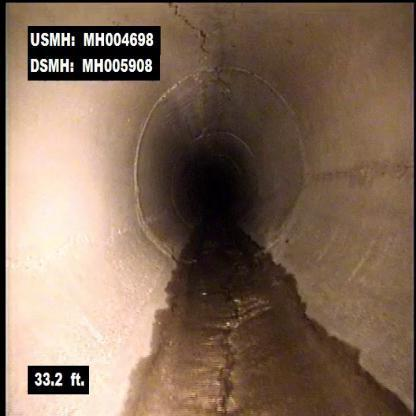Buckling: (215, 297, 243, 414)
Crack: (9, 232, 87, 269), (314, 157, 411, 181), (168, 4, 209, 55)
